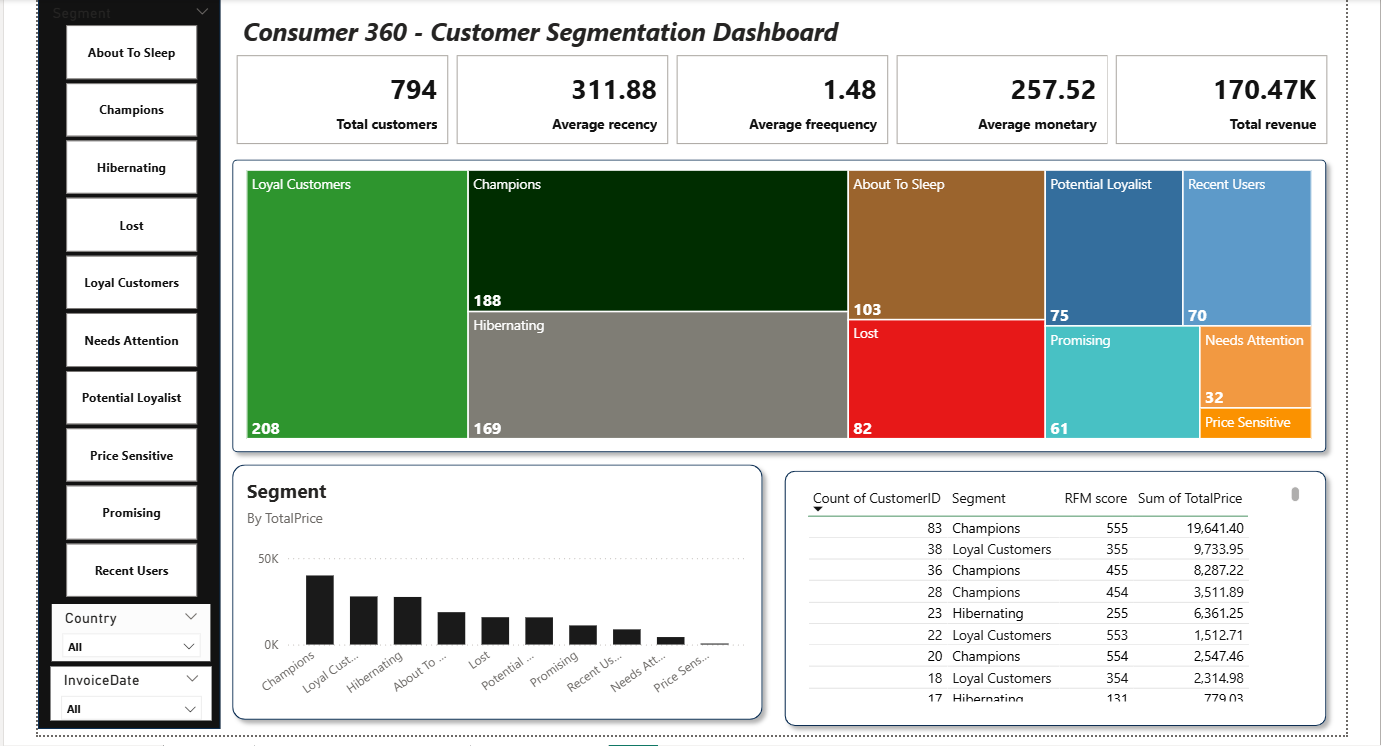

What the dashboard file says about the page in this screenshot:
{"tool":"powerbi","page":{"name":"Customer Segmentation","canvas":[1280,720],"ordinal":1},"visuals":[{"type":"shape","box":[181,148,1088.3,304.5],"z":0},{"type":"treemap","fields":{"Group":["consumer360_rfm_customer_segment.Segment"],"Values":["CountNonNull(consumer360_rfm_customer_segment.CustomerID)"]},"box":[199.3,162.6,1051.6,272.7],"z":1000},{"type":"shape","box":[721.5,452.4,547.8,267.8],"z":1000,"group":"g2"},{"type":"group","id":"g1","title":"Group 1","box":[181,446.3,536.8,267.8],"z":2000},{"type":"shape","box":[181,446.3,536.8,267.8],"z":2000,"group":"g1"},{"type":"shape","box":[0,0,178.5,714.1],"z":3000},{"type":"group","id":"g2","title":"Group 2","box":[721.5,452.4,547.8,267.8],"z":4000},{"type":"cardVisual","fields":{"Data":["consumer360_rfm_customer_segment.Total customers","consumer360_rfm_customer_segment.Average recency","consumer360_rfm_customer_segment.Average freequency","consumer360_rfm_customer_segment.Average monetary","consumer360_rfm_customer_segment.Total revenue"]},"box":[189.5,50.1,1079.8,97.8],"z":5000},{"type":"columnChart","title":" Segment","fields":{"Category":["consumer360_rfm_customer_segment.Segment"],"Y":["Sum(consumer360_rfm_customer_segment.TotalPrice)"]},"box":[199.8,468.4,499.3,223.8],"z":5000,"group":"g1"},{"type":"textbox","box":[195.7,11,717.8,55],"z":6000},{"type":"tableEx","fields":{"Values":["CountNonNull(consumer360_rfm_customer_segment.CustomerID)","consumer360_rfm_customer_segment.Segment","consumer360_rfm_customer_segment.RFM score","Sum(consumer360_rfm_customer_segment.TotalPrice)"]},"box":[747.6,471.9,492.3,220.2],"z":6000,"group":"g2"},{"type":"slicer","fields":{"Values":["consumer360_rfm_customer_segment.Segment"]},"box":[1.2,0,178.5,591.9],"z":7000},{"type":"slicer","fields":{"Values":["consumer360_rfm_customer_segment.Country"]},"box":[13.5,591.9,155.3,56.3],"z":8000},{"type":"slicer","fields":{"Values":["consumer360_rfm_customer_segment.InvoiceDate"]},"box":[12.2,653,157.7,52.6],"z":9000}]}

Visuals, with their boxes on the page's 1280x720 design canvas (x1, y1, x2, y2). These are canvas units, not pixel positions in the 1381x746 screenshot, which may show the page scaled, cropped or inside an application window:
shape: <region>181, 148, 1269, 452</region>
treemap - consumer360_rfm_customer_segment.Segment x CountNonNull(consumer360_rfm_customer_segment.CustomerID): <region>199, 163, 1251, 435</region>
shape: <region>722, 452, 1269, 720</region>
"Group 1" group: <region>181, 446, 718, 714</region>
shape: <region>181, 446, 718, 714</region>
shape: <region>0, 0, 178, 714</region>
"Group 2" group: <region>722, 452, 1269, 720</region>
cardVisual - consumer360_rfm_customer_segment.Total customers x consumer360_rfm_customer_segment.Average recency: <region>190, 50, 1269, 148</region>
" Segment" columnChart: <region>200, 468, 699, 692</region>
textbox: <region>196, 11, 914, 66</region>
tableEx - CountNonNull(consumer360_rfm_customer_segment.CustomerID) x consumer360_rfm_customer_segment.Segment: <region>748, 472, 1240, 692</region>
slicer - consumer360_rfm_customer_segment.Segment: <region>1, 0, 180, 592</region>
slicer - consumer360_rfm_customer_segment.Country: <region>14, 592, 169, 648</region>
slicer - consumer360_rfm_customer_segment.InvoiceDate: <region>12, 653, 170, 706</region>
